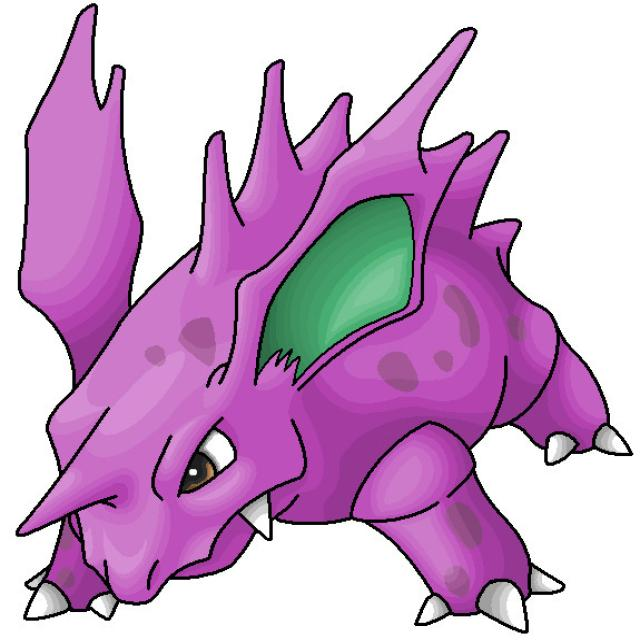Nidorino: (26, 104, 548, 624)
